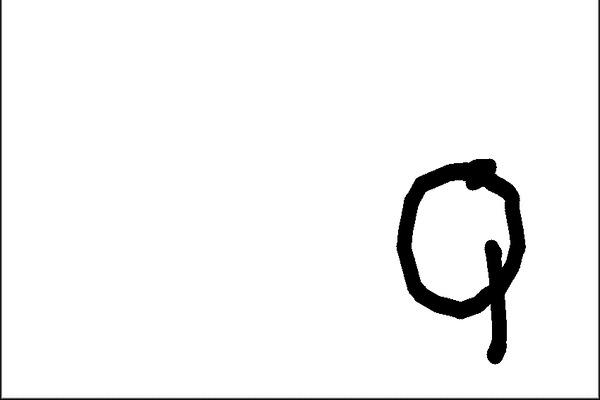Q: (387, 152, 538, 367)
